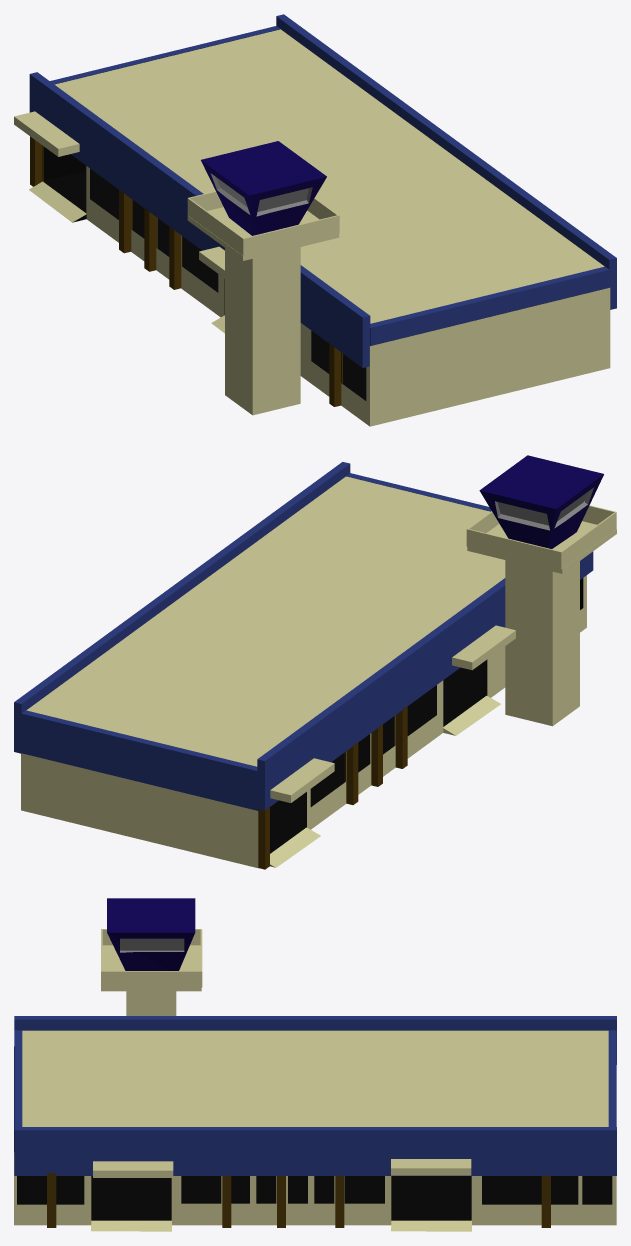
Rendered from airport.fbx.
3 renders of one model, top to bottom at view 1: azimuth 30°, elevation 25°; view 2: azimuth 150°, elevation 25°; view 3: azimuth 270°, elevation 25°, orthographic. The views are drawn at different scales.
Visible parts, largest first — view 1: liman1, kule1; view 2: liman1, kule1; view 3: liman1, kule1.
Boxes of the visible parts, x1,y1,x2,y2 form: liman1: (14,14,616,426); kule1: (187,141,339,415); liman1: (14,462,593,869); kule1: (466,455,616,726); liman1: (14,1016,616,1231); kule1: (101,898,202,1015).
Size of the model in its own units: 3615 by 2296 by 6005.
